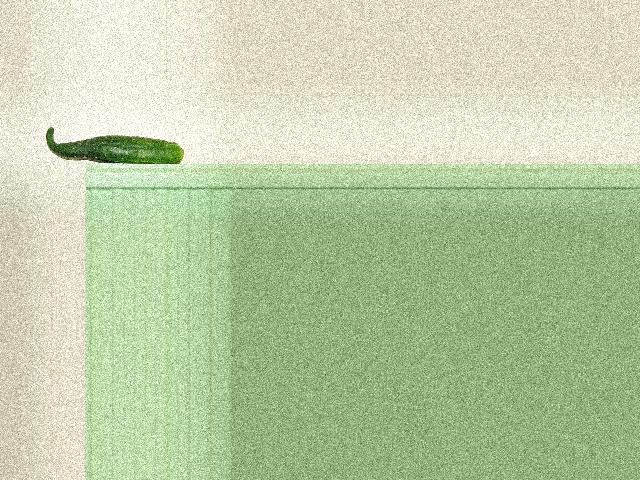cucumber: (45, 127, 183, 164)
